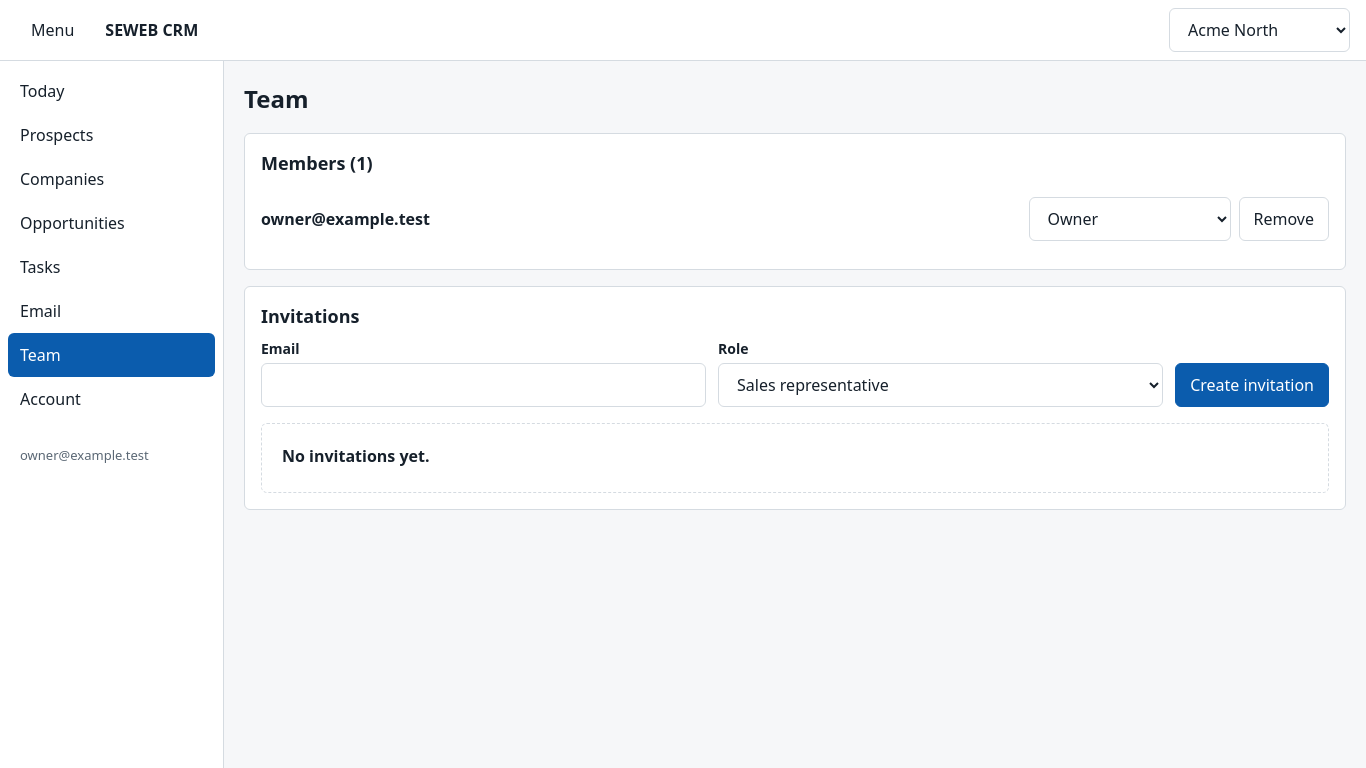
Test: team page › shows a one-time invitation link to a manager
Type "new@example.test" into the field labelled "Email".
click(484, 385); type("new@example.test")  # box [261, 363, 706, 407]
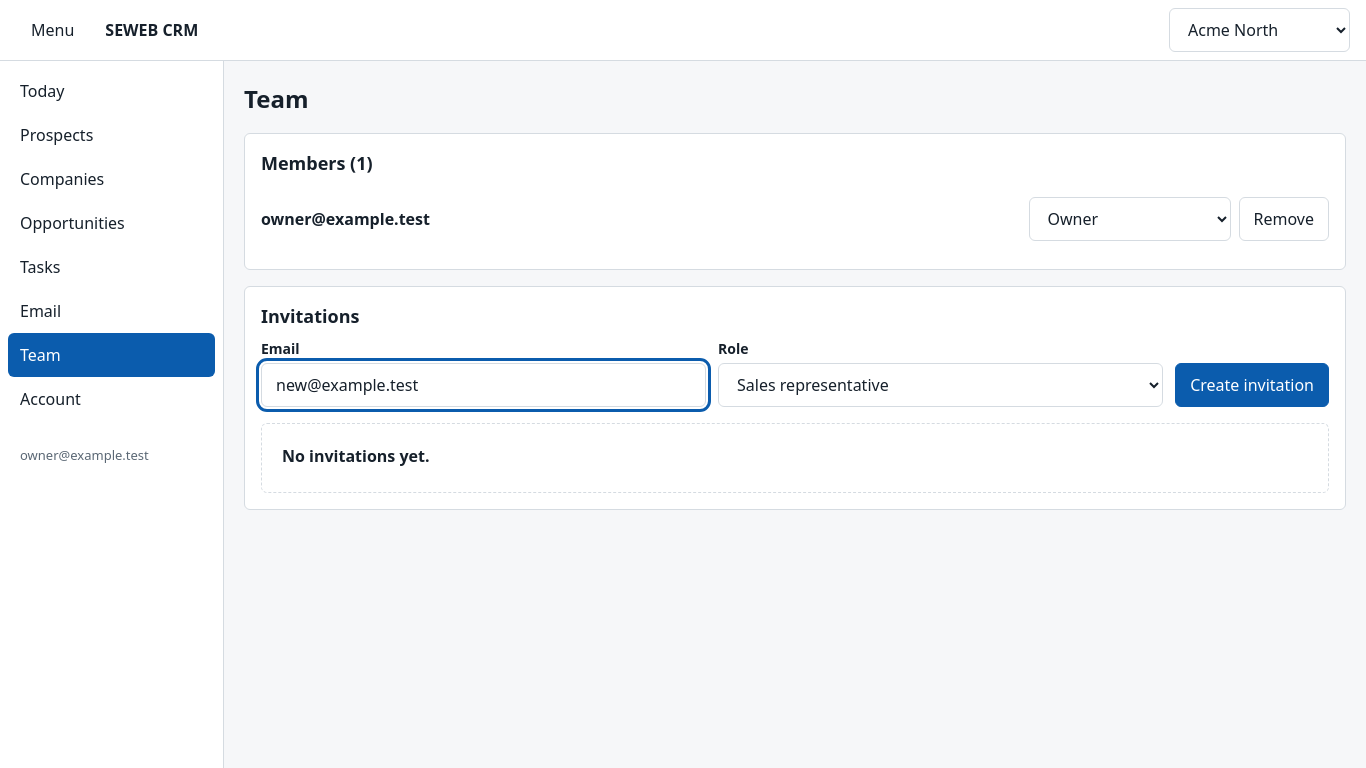
Click the button "Create invitation".
click(1252, 385)  # box [1175, 363, 1329, 407]
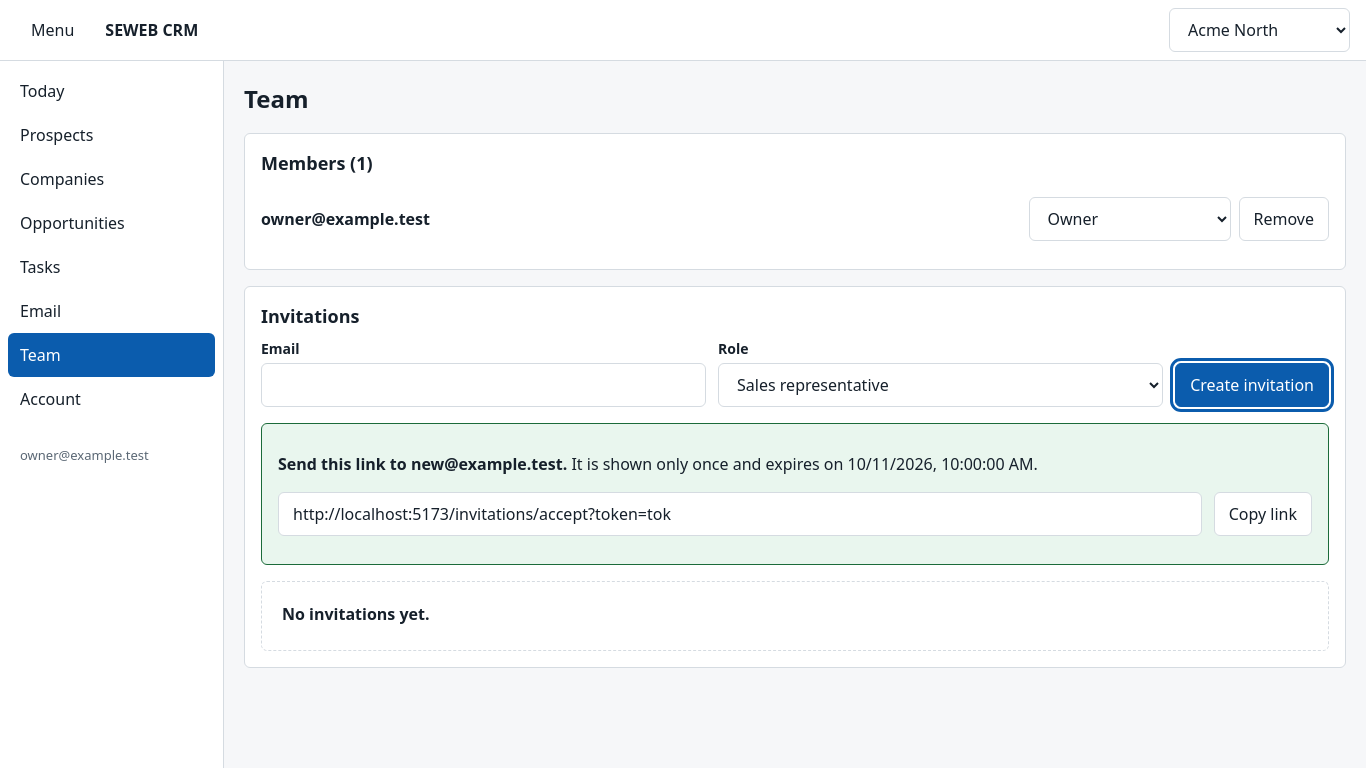
Now the field named "Invitation link" holds "http://localhost:5173/invitations/accept?token=tok", box [278, 492, 1202, 536]
Now the message shows "shown only once", box [567, 453, 848, 475]
